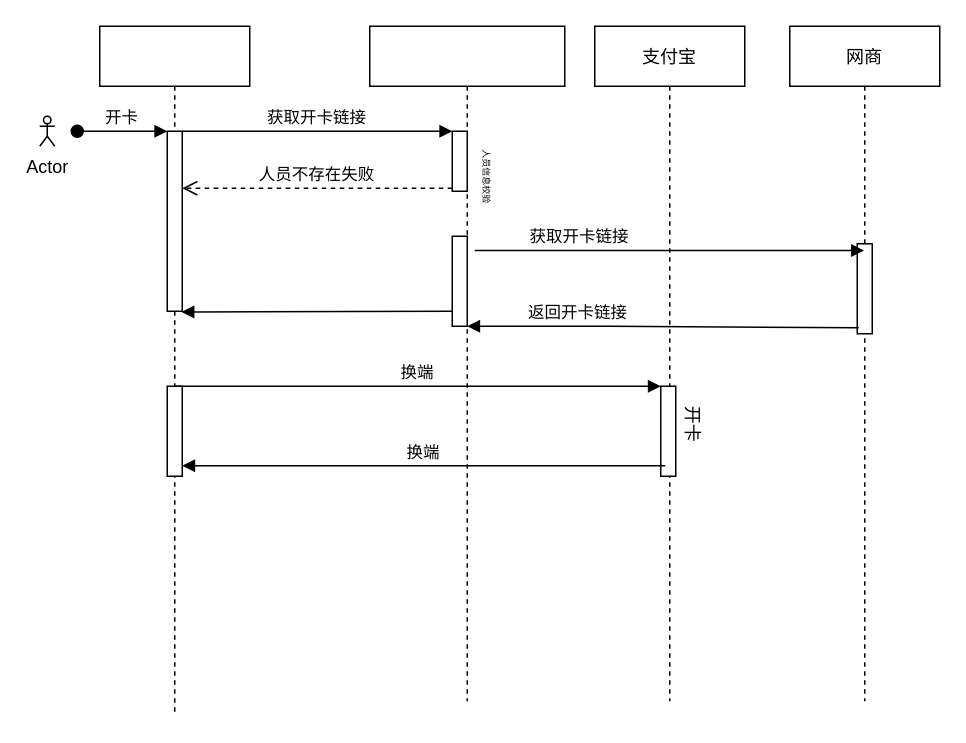
The diagram is 966 pixels wide and 743 high, and some of its shapes have lost their labels. The box of each missing label's shape, as (x1, y1, x2, y2) in pixels:
劳动力: (368, 25, 565, 701)
运力平台: (98, 25, 250, 716)
